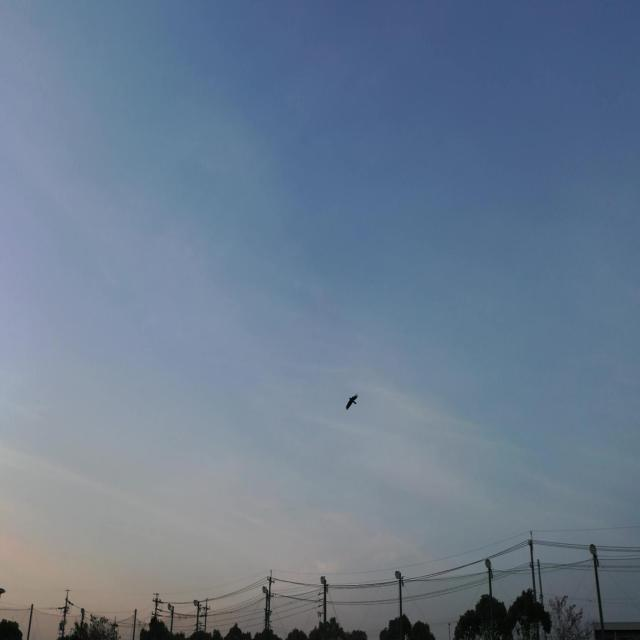Birds: (343, 389, 359, 412)
